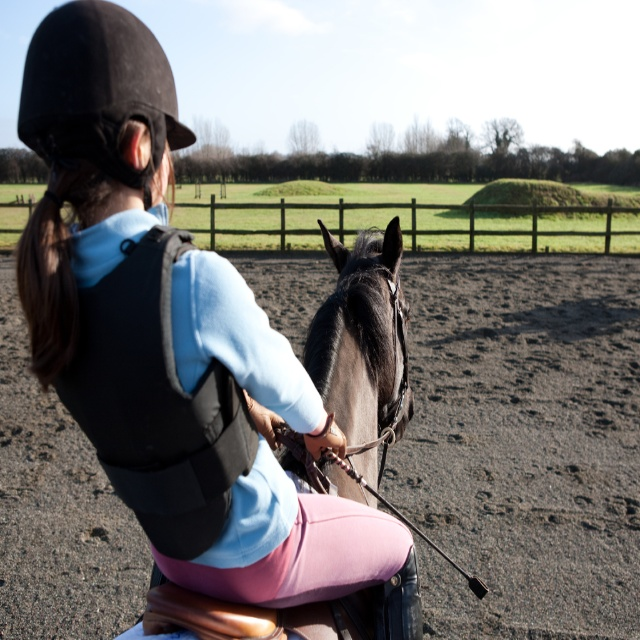Horse: (113, 215, 414, 640)
